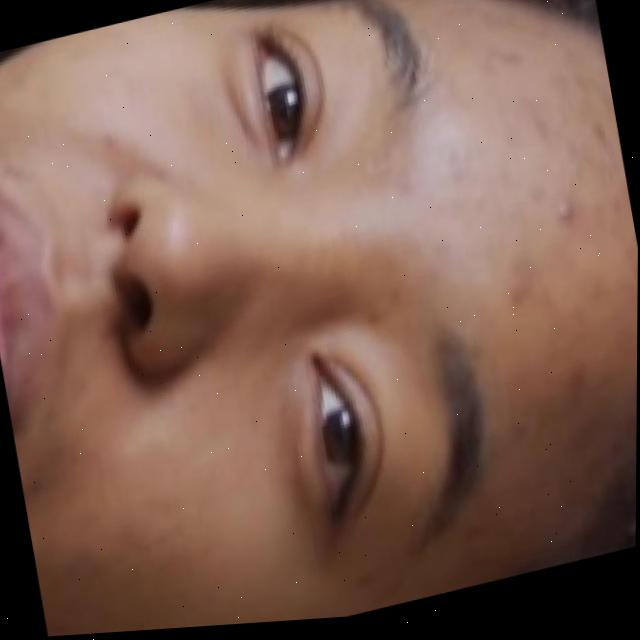Acne: (403, 0, 640, 528)
